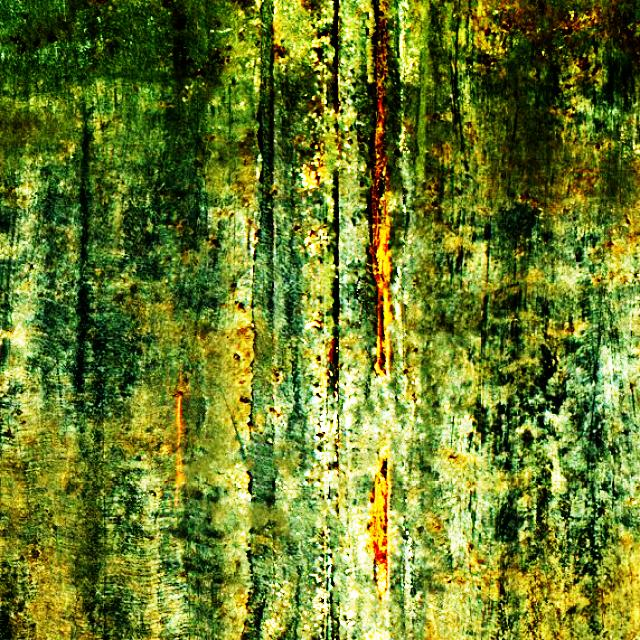Corrosion: (369, 14, 394, 378), (365, 446, 389, 599)
